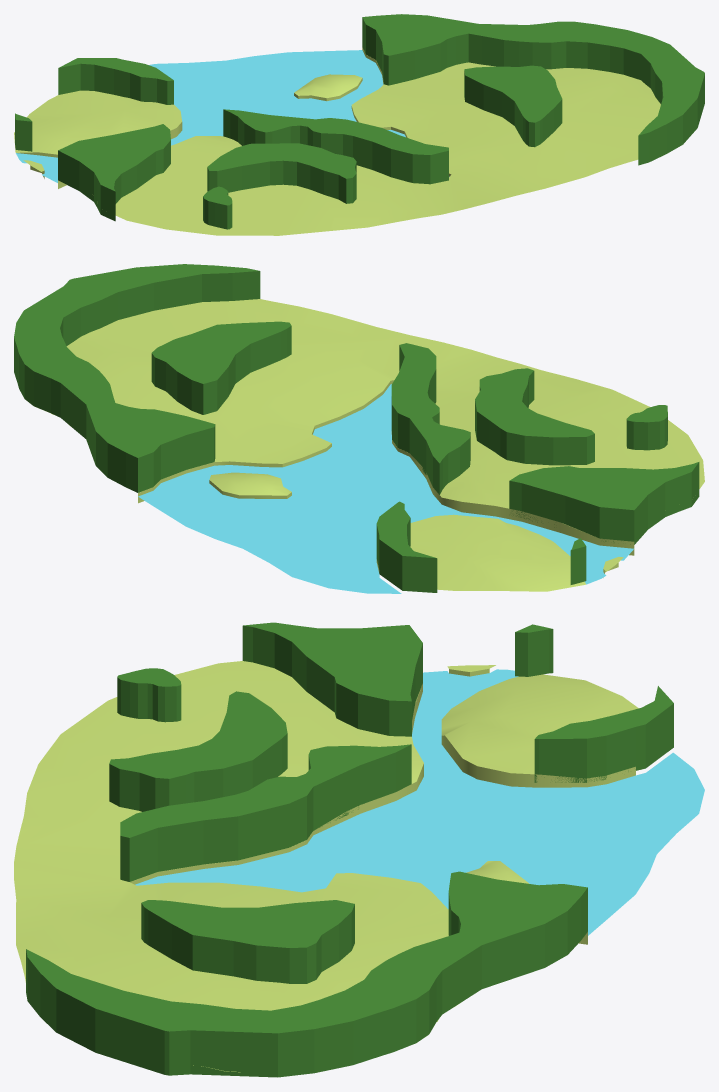
Rendered from enviBlocked_v09.fbx.
3 renders of one model, top to bottom at view 1: azimuth 30°, elevation 25°; view 2: azimuth 150°, elevation 25°; view 3: azimuth 270°, elevation 25°, orthographic. The views are drawn at different scales.
Parts seen in each view (by area): view 1: block.002, ground.003, water.002; view 2: block.002, ground.003, water.002; view 3: block.002, ground.003, water.002.
Boxes of the visible parts, left/top/right/bottom form: block.002: left=15, top=14, right=704, bottom=229; ground.003: left=14, top=47, right=660, bottom=235; water.002: left=16, top=50, right=449, bottom=182; block.002: left=14, top=264, right=699, bottom=592; ground.003: left=51, top=299, right=704, bottom=591; water.002: left=138, top=384, right=633, bottom=593; block.002: left=26, top=622, right=673, bottom=1077; ground.003: left=14, top=661, right=638, bottom=1072; water.002: left=135, top=669, right=704, bottom=935.
Bounding box in the file's own units: 10024 × 650 × 7095.
